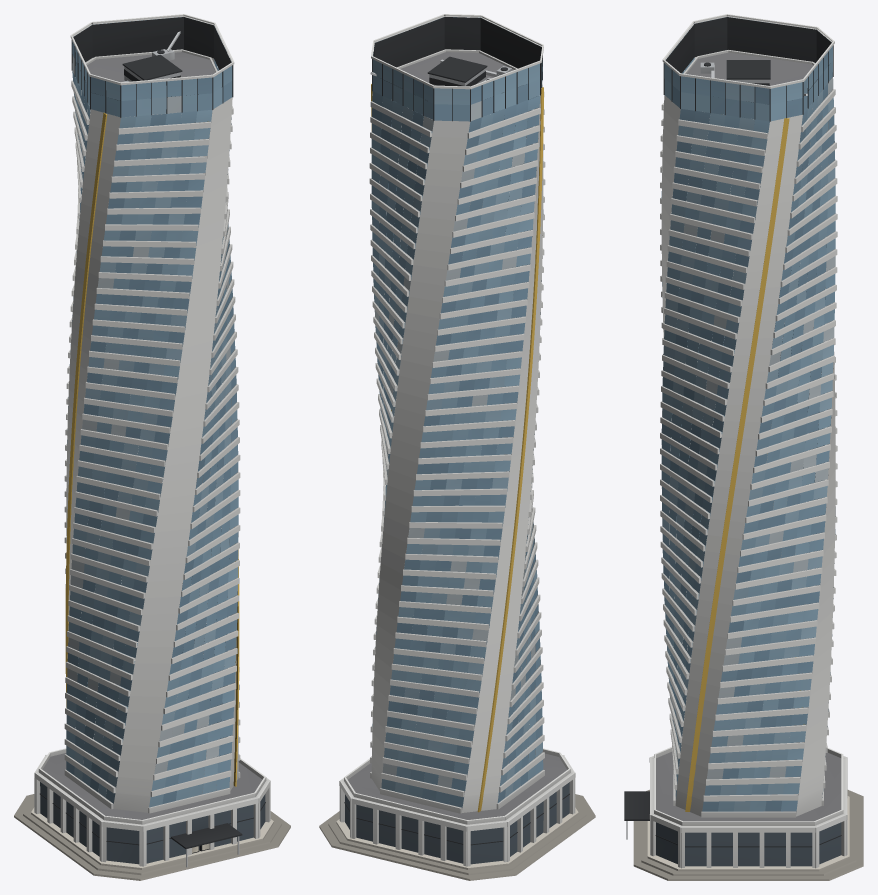
3 renders of one model, left to right at view 1: azimuth 30°, elevation 25°; view 2: azimuth 150°, elevation 25°; view 3: azimuth 270°, elevation 25°, orthographic.
Parts seen in each view (by area): view 1: t7; view 2: t7; view 3: t7.
Part boxes in pixels (x1=…): t7: x1=14, y1=14, x2=290, y2=880; t7: x1=319, y1=14, x2=595, y2=880; t7: x1=624, y1=14, x2=863, y2=880.
Bounding box in the file's own units: 48.8 × 183 × 50.8.
